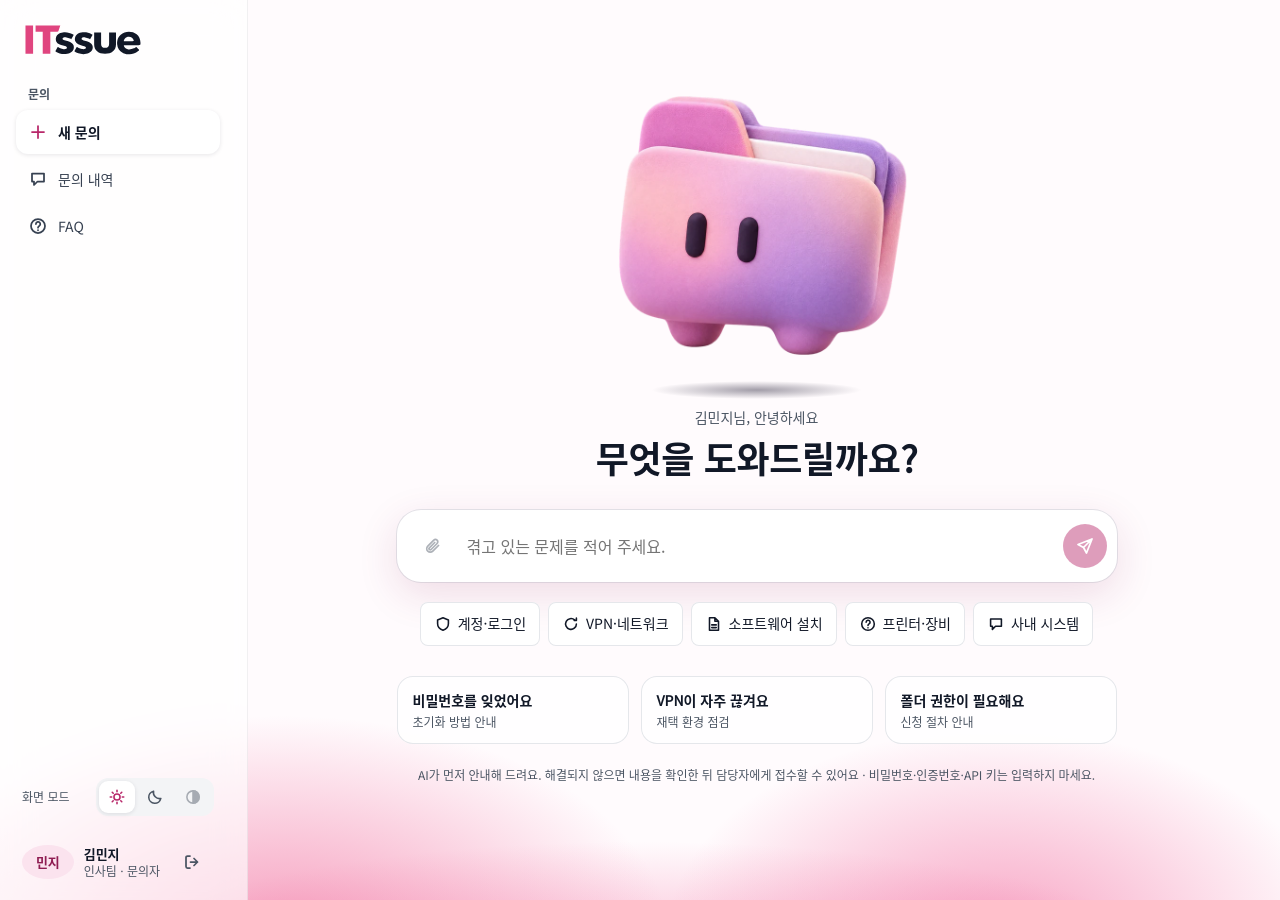
Test case: 접수 초안 수정 › 수정 화면은 4개 항목만 입력칸이 되고 나머지는 잠금 표시로 남는다
Type "VPN이 자꾸 끊겨요. 어제부터 안 돼요. 저만 안 되고 메일 업무는 가능해요. 재접속해 봤어요." into the text box named "메시지 입력" at (758, 546), box [460, 524, 1056, 568]
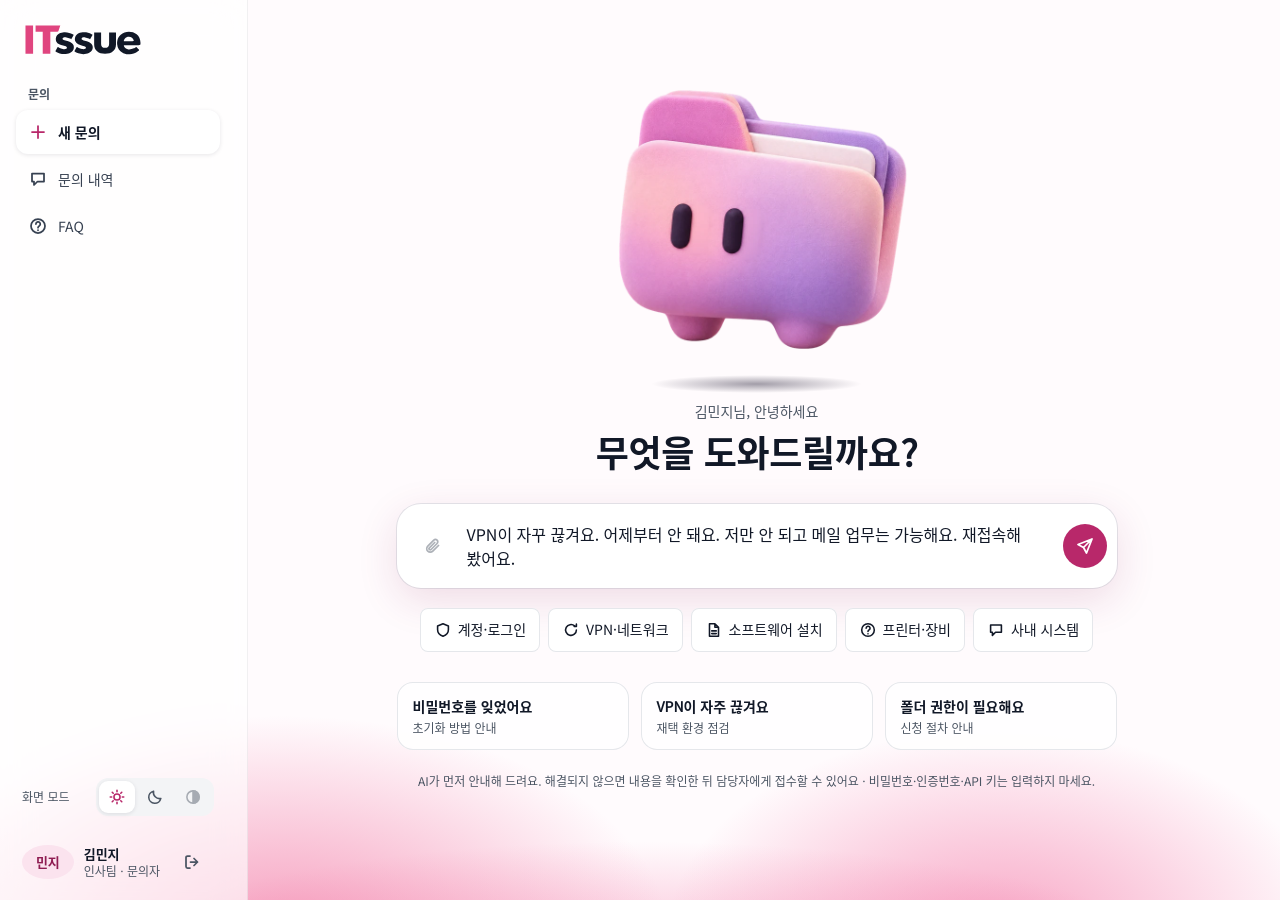
Click the button named "보내기" at (1084, 546), box [1062, 524, 1106, 568]
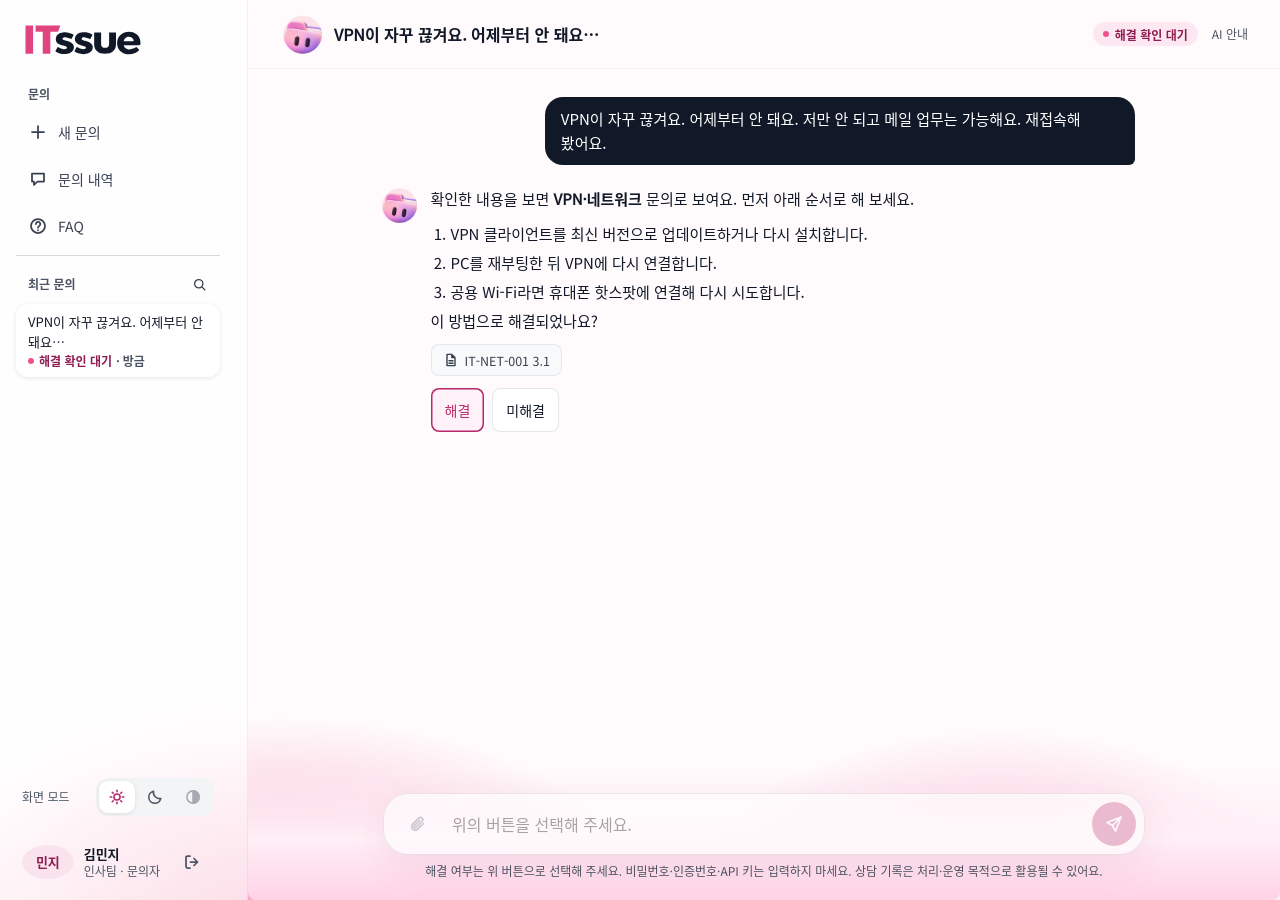
Click the button "미해결" at (526, 410), box [492, 388, 559, 432]
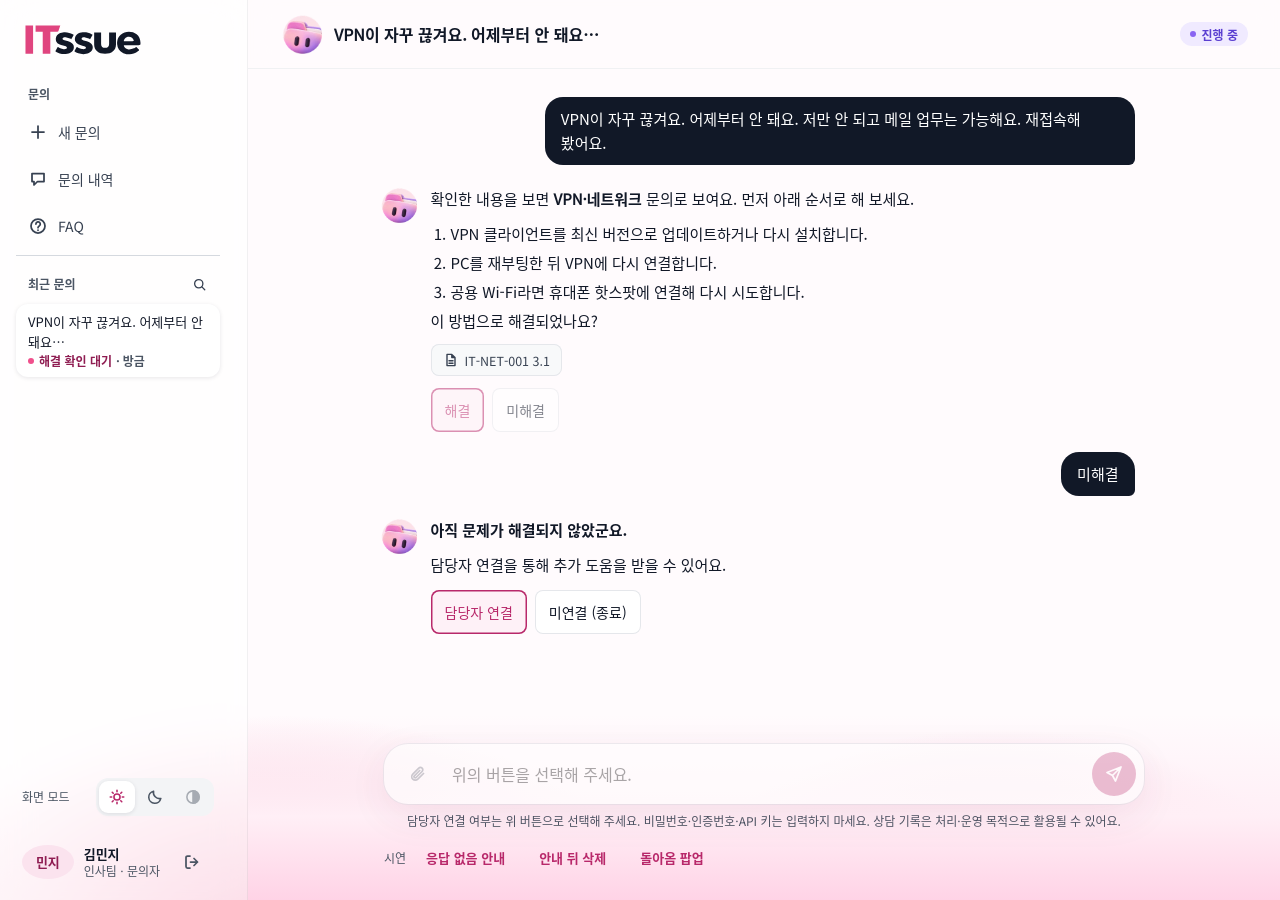
Click the button "담당자 연결" at (479, 612), box [430, 590, 527, 634]
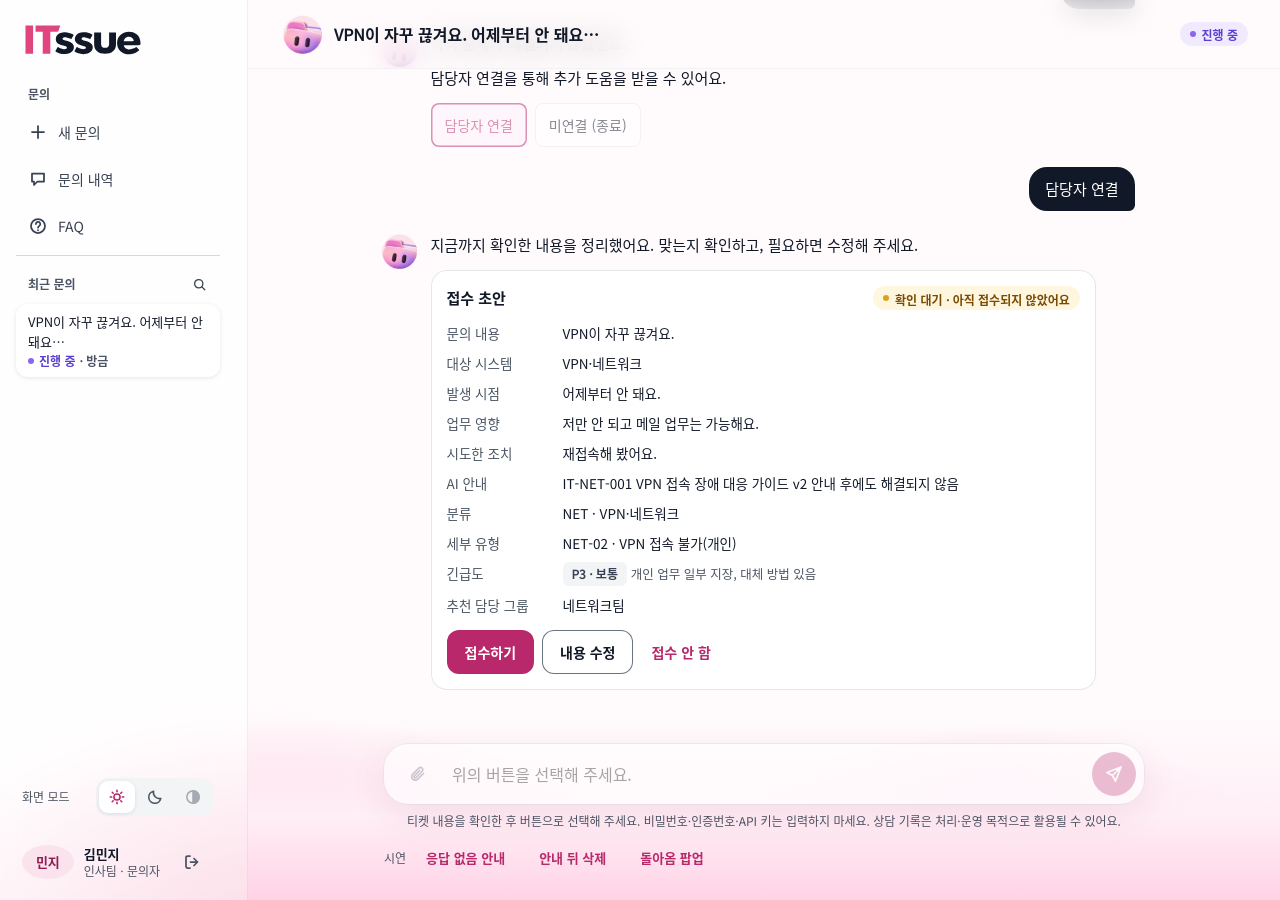
Check: the text "분류" is shown, box [446, 503, 471, 523]
Check: the text "NET-02 · VPN 접속 불가(개인)" is shown, box [562, 533, 737, 553]
Click the button "내용 수정" at (588, 652), box [542, 630, 634, 674]
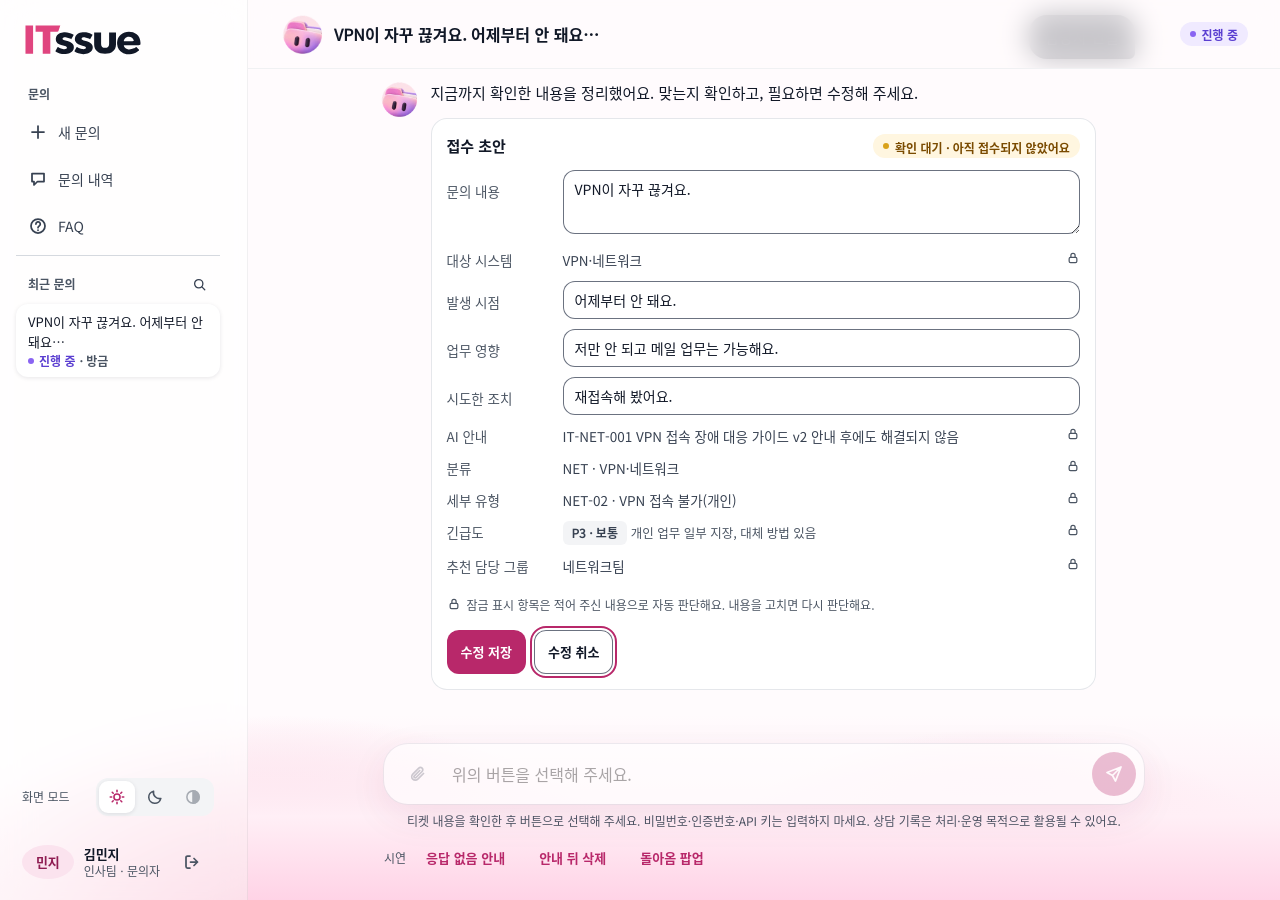
Check: the text box labelled "문의 내용" is shown, box [562, 170, 1080, 234]
Check: the field labelled "발생 시점" is shown
Check: the field labelled "업무 영향" is shown, box [562, 329, 1080, 367]
Replace the text in the field labelled "발생 시점" with "어제 오후부터 전사 접속이 안 돼요" at (821, 300), box [562, 281, 1080, 319]
Click the button "수정 저장" at (486, 652), box [446, 630, 526, 674]
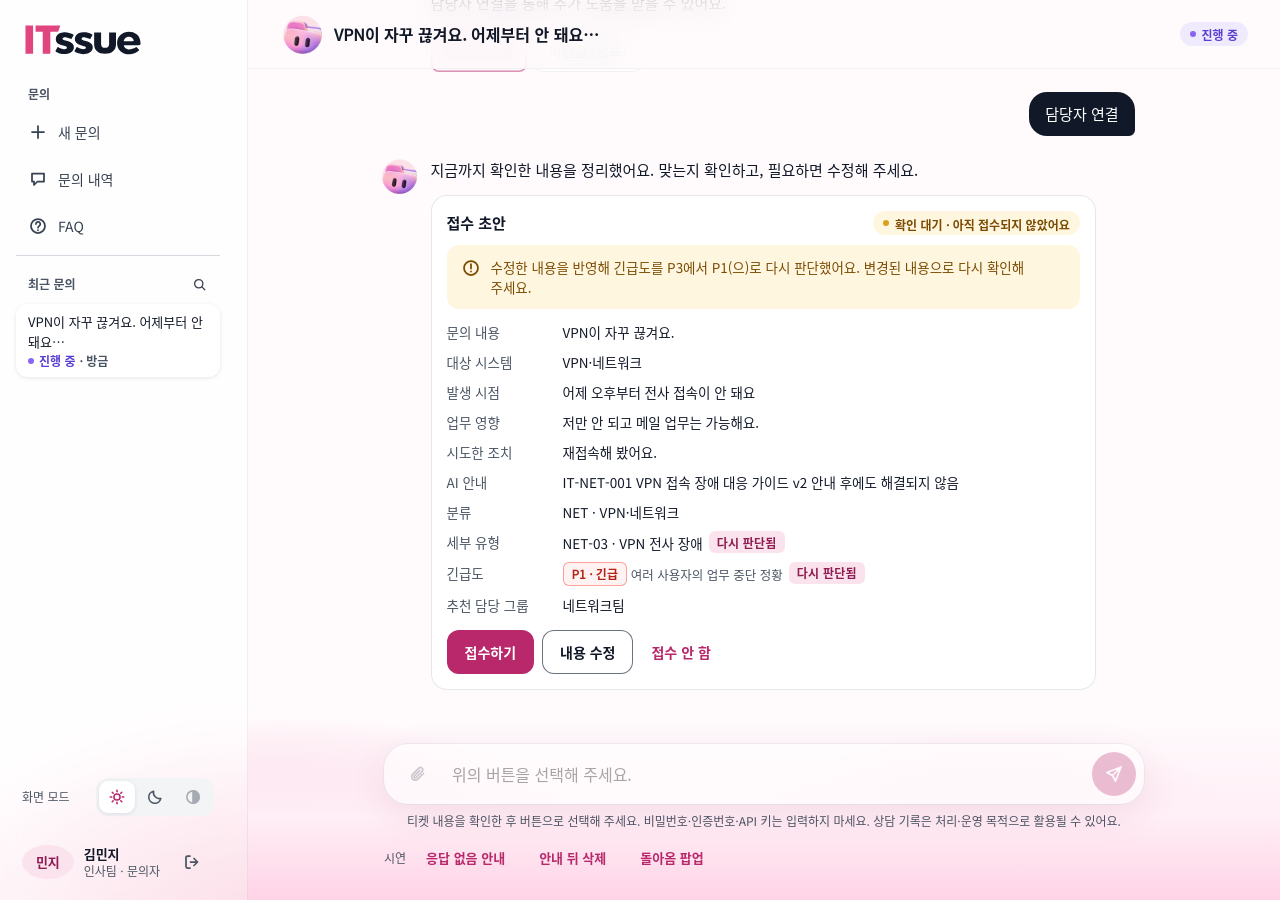
Check: the text "NET-03 · VPN 전사 장애" is shown, box [562, 532, 703, 552]
